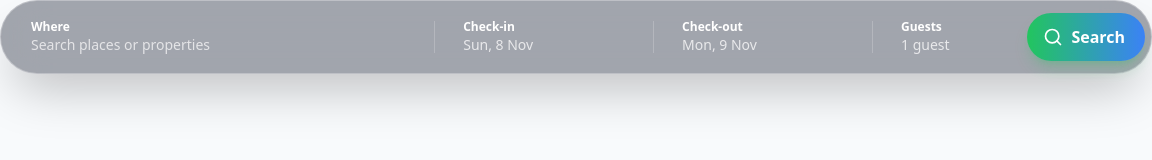
Test: StaySearch pickers › pill search will not run without a destination, and shows why
Later steps or results of the test are not shown.
Step 1. Click the button "Search" → click(1086, 37), box [1027,13,1145,61]
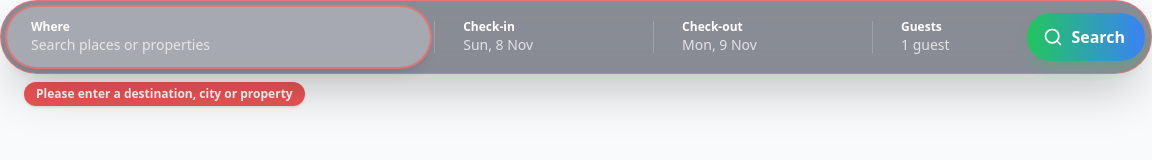
Result: the message shows "Please enter a destination" at [36,85,293,102]
Step 2. Type "Ooty" into the search field named "Destination" → (219, 45), box [31,35,406,55]
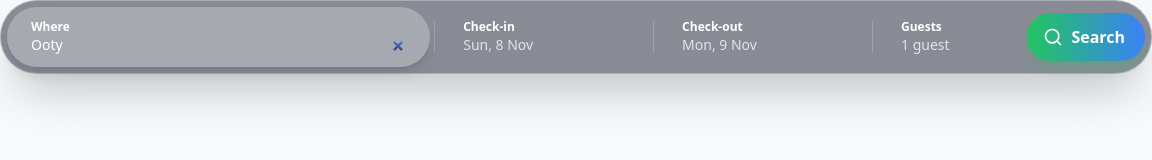
Result: the message "Please enter a destination, city or property" is gone
